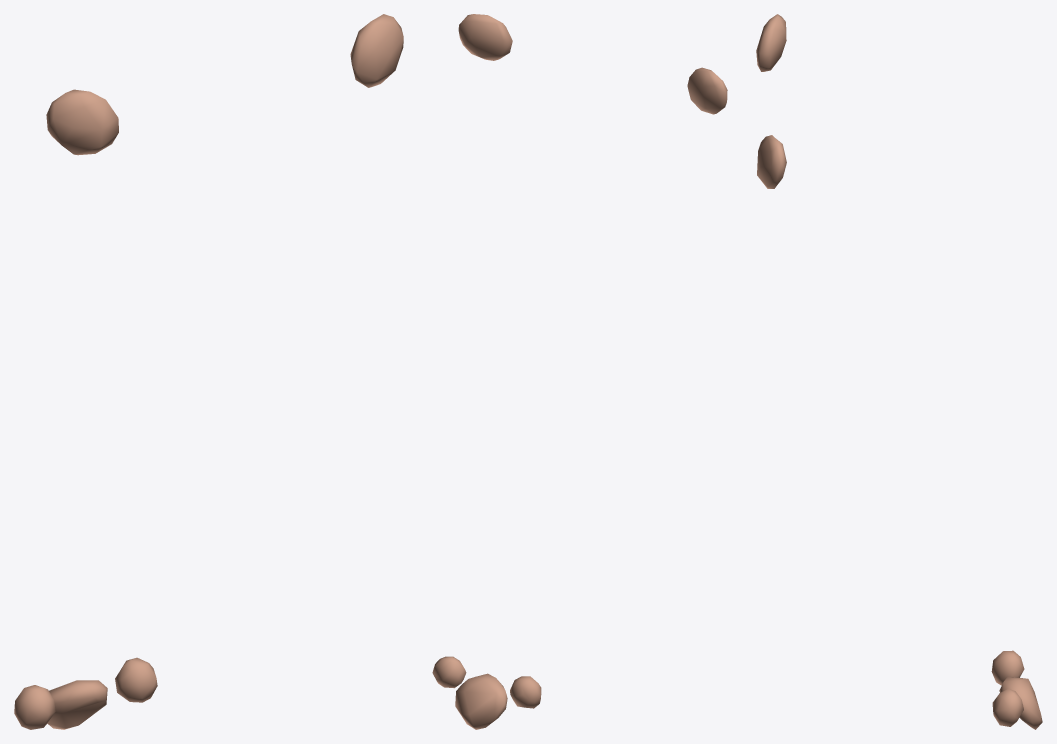
Rendered from pediatric_child_10y_female.reproductive.LOD3.glb.
3 views of the same model, side by side, from view 1: azimuth 30°, elevation 25°; view 2: azimuth 150°, elevation 25°; view 3: azimuth 270°, elevation 25° (orthographic). The views are drawn at different scales.
Visible parts, largest first — view 1: PEDIATRIC.CHILD_10Y.FEMALE.REPRODUCTIVE.BREAST_ADIPOSE_TISSU (×2), PEDIATRIC.CHILD_10Y.FEMALE.REPRODUCTIVE.UTERUS, PEDIATRIC.CHILD_10Y.FEMALE.REPRODUCTIVE.OVARY.L, PEDIATRIC.CHILD_10Y.FEMALE.REPRODUCTIVE.OVARY.R; view 2: PEDIATRIC.CHILD_10Y.FEMALE.REPRODUCTIVE.BREAST_ADIPOSE_TISSU (×2), PEDIATRIC.CHILD_10Y.FEMALE.REPRODUCTIVE.UTERUS, PEDIATRIC.CHILD_10Y.FEMALE.REPRODUCTIVE.OVARY.R, PEDIATRIC.CHILD_10Y.FEMALE.REPRODUCTIVE.OVARY.L; view 3: PEDIATRIC.CHILD_10Y.FEMALE.REPRODUCTIVE.BREAST_ADIPOSE_TISSU (×2), PEDIATRIC.CHILD_10Y.FEMALE.REPRODUCTIVE.UTERUS, PEDIATRIC.CHILD_10Y.FEMALE.REPRODUCTIVE.OVARY.L, PEDIATRIC.CHILD_10Y.FEMALE.REPRODUCTIVE.OVARY.R.
Boxes of the visible parts, x1,y1,x2,y2 form: PEDIATRIC.CHILD_10Y.FEMALE.REPRODUCTIVE.BREAST_ADIPOSE_TISSU (×2): (46, 14, 403, 155); PEDIATRIC.CHILD_10Y.FEMALE.REPRODUCTIVE.UTERUS: (47, 680, 107, 729); PEDIATRIC.CHILD_10Y.FEMALE.REPRODUCTIVE.OVARY.L: (115, 657, 157, 702); PEDIATRIC.CHILD_10Y.FEMALE.REPRODUCTIVE.OVARY.R: (14, 685, 55, 729); PEDIATRIC.CHILD_10Y.FEMALE.REPRODUCTIVE.BREAST_ADIPOSE_TISSU (×2): (458, 14, 727, 114); PEDIATRIC.CHILD_10Y.FEMALE.REPRODUCTIVE.UTERUS: (455, 673, 507, 729); PEDIATRIC.CHILD_10Y.FEMALE.REPRODUCTIVE.OVARY.R: (510, 676, 541, 708); PEDIATRIC.CHILD_10Y.FEMALE.REPRODUCTIVE.OVARY.L: (432, 656, 466, 688); PEDIATRIC.CHILD_10Y.FEMALE.REPRODUCTIVE.BREAST_ADIPOSE_TISSU (×2): (756, 14, 786, 188); PEDIATRIC.CHILD_10Y.FEMALE.REPRODUCTIVE.UTERUS: (999, 677, 1042, 729); PEDIATRIC.CHILD_10Y.FEMALE.REPRODUCTIVE.OVARY.L: (992, 689, 1023, 726); PEDIATRIC.CHILD_10Y.FEMALE.REPRODUCTIVE.OVARY.R: (991, 650, 1024, 685).
Size of the model in its own units: 0.1488 by 0.3177 by 0.1267.
